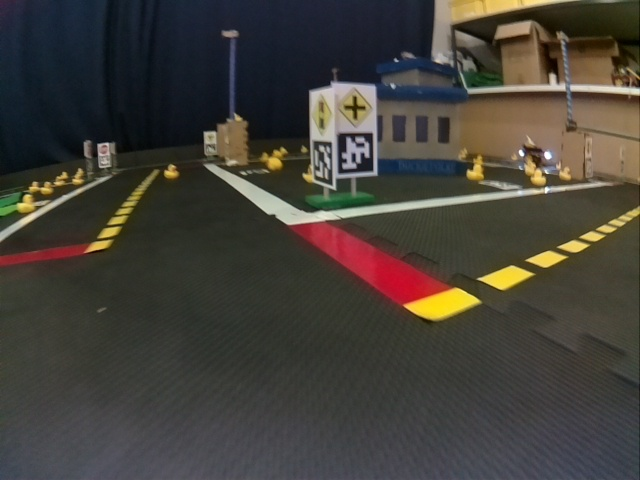Duckie: (17, 195, 34, 211), (466, 164, 485, 178), (164, 164, 177, 178), (532, 171, 545, 185), (302, 165, 312, 182), (268, 157, 281, 169), (560, 169, 571, 181), (40, 182, 51, 193), (73, 176, 83, 185)
Intersection sign: (339, 87, 373, 128)
QR code: (338, 133, 374, 175), (312, 143, 333, 185)
Signal sign: (310, 93, 333, 136)
